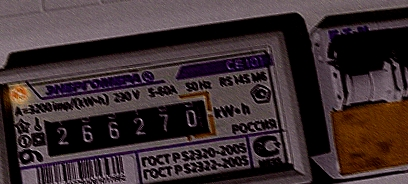0: (183, 106, 198, 128)
2: (53, 124, 71, 146), (130, 114, 147, 136)
6: (79, 121, 95, 144), (106, 119, 121, 140)
7: (156, 111, 171, 131)
screen: (33, 87, 222, 164)
